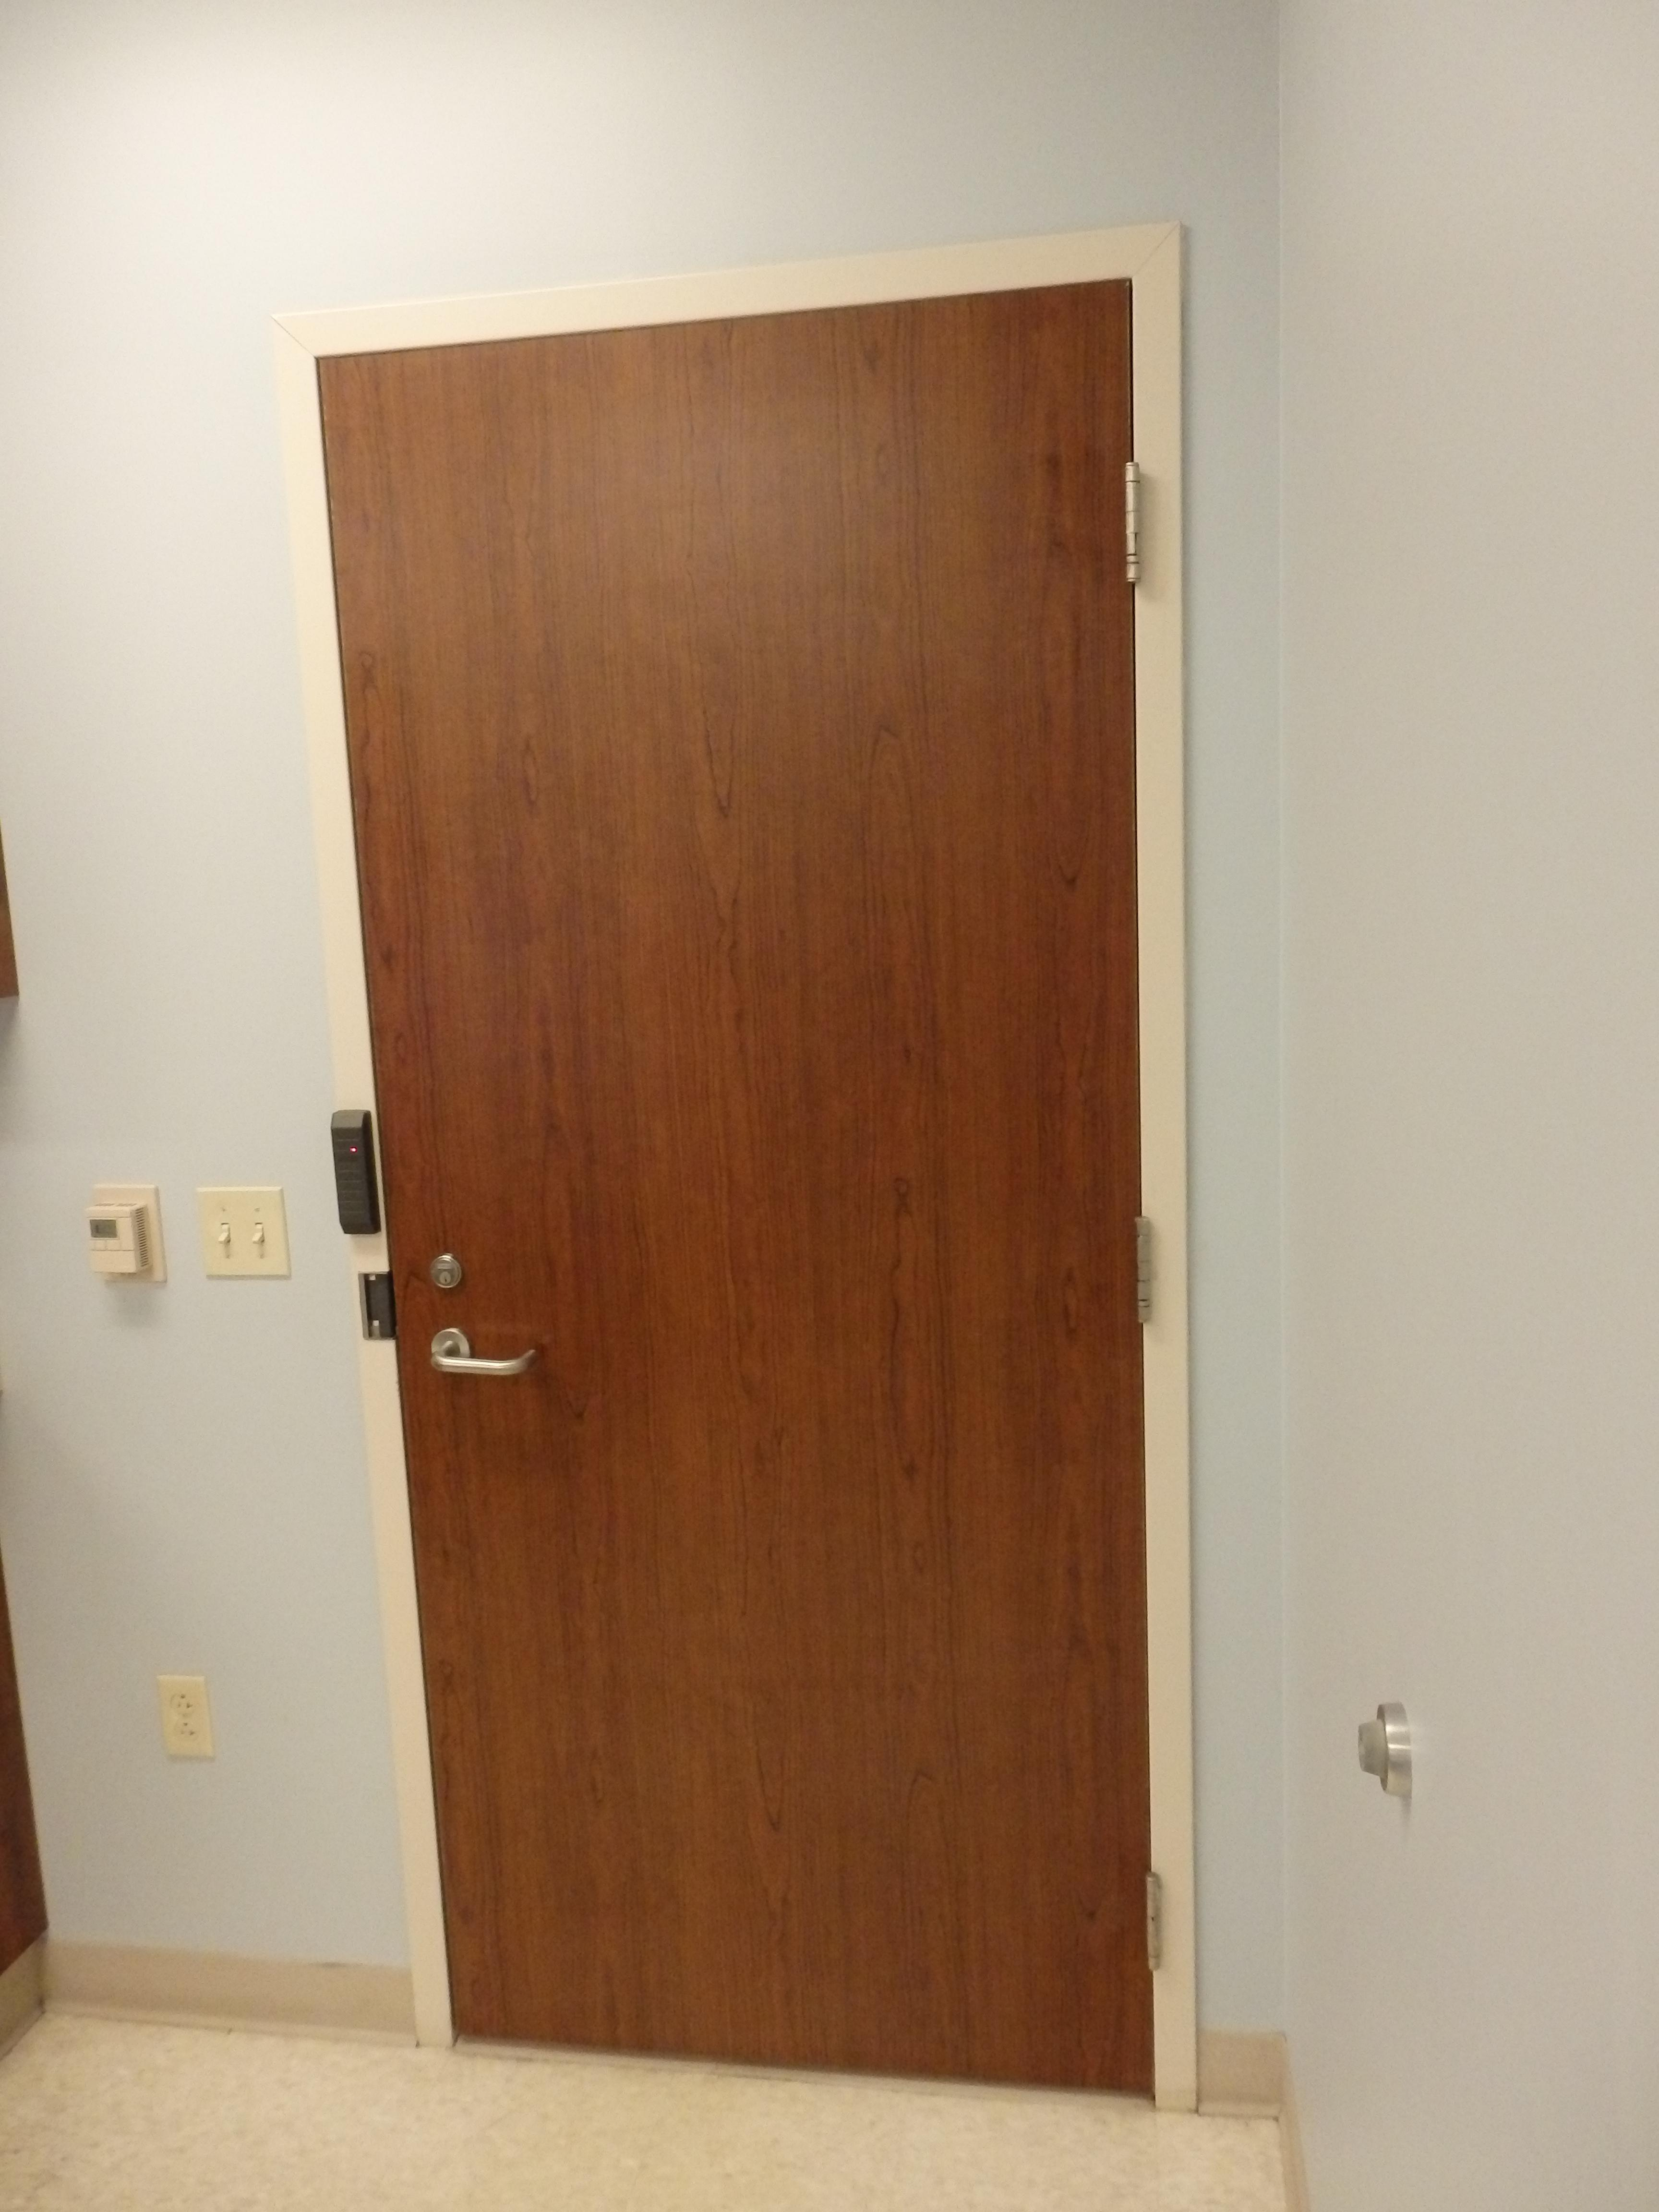door: (301, 266, 1136, 2102)
